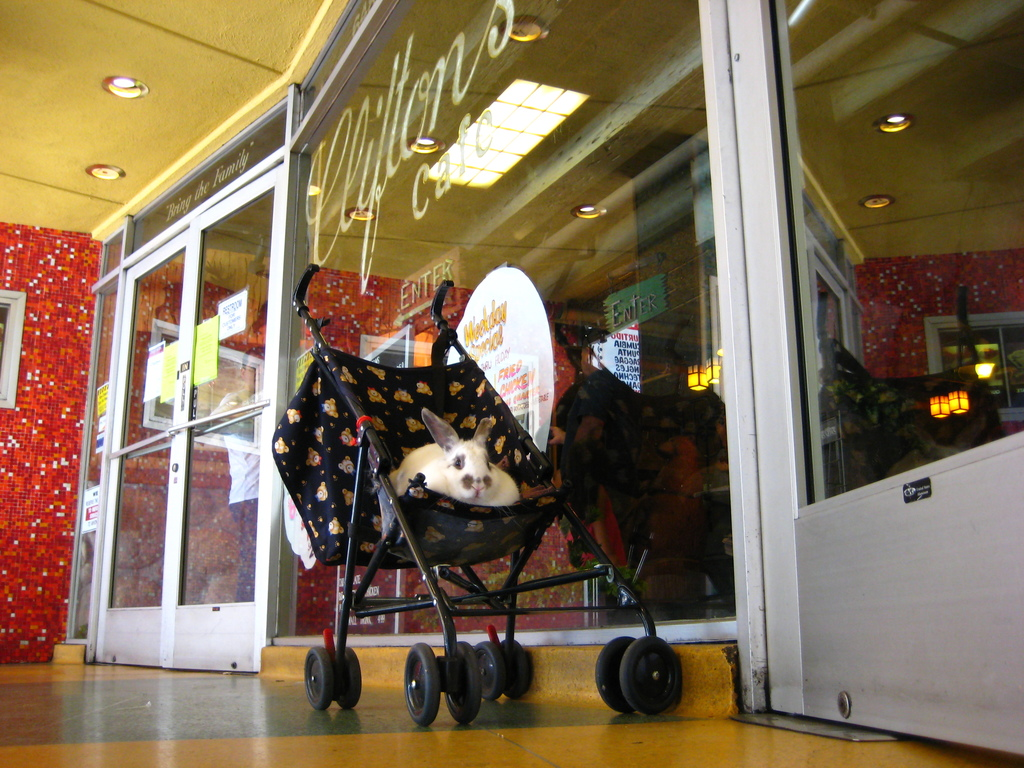Animal: (387, 407, 518, 506)
